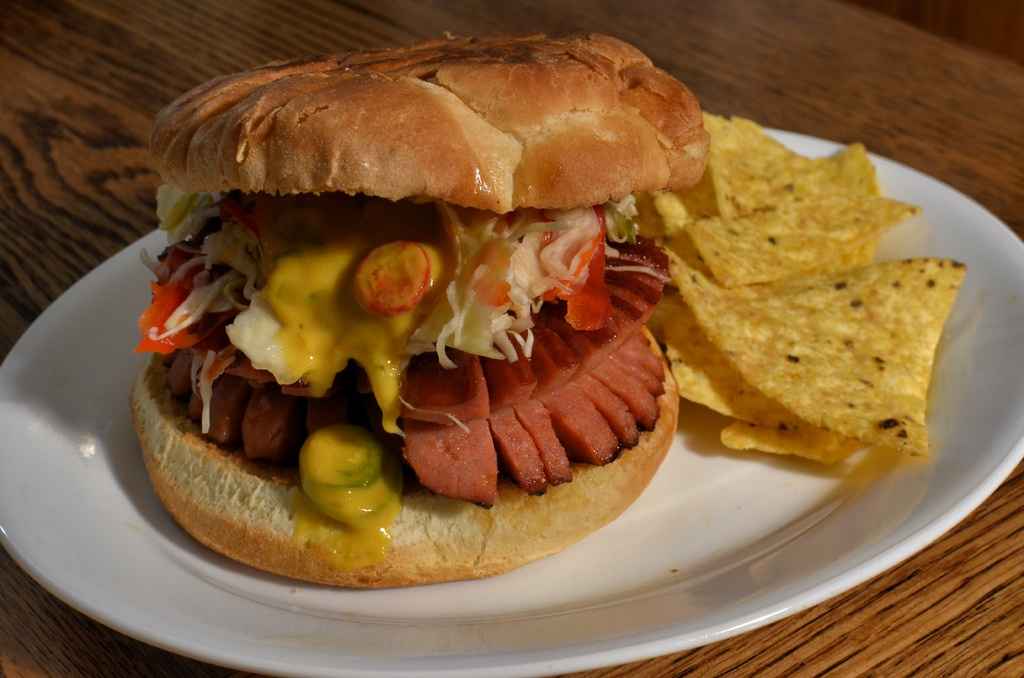Hamburger: (133, 24, 713, 587)
